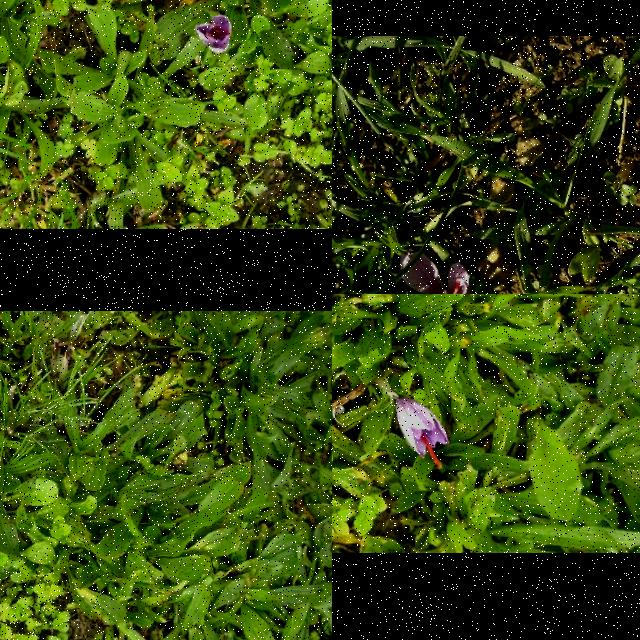flower: (381, 252, 481, 294), (398, 394, 450, 470), (194, 14, 232, 54)
